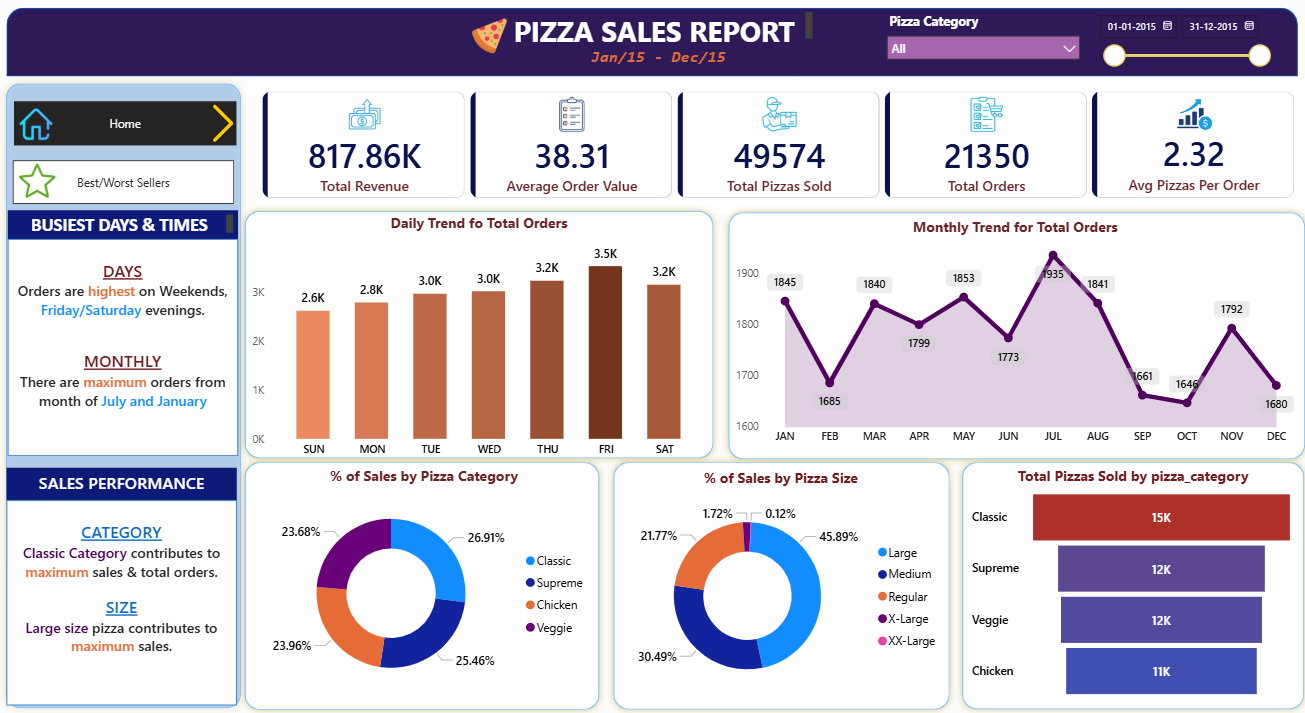

The dashboard page shown, as its layout file describes it:
{"tool":"powerbi","page":{"name":"Home","canvas":[1500,820],"ordinal":0},"visuals":[{"type":"shape","box":[0,88.6,284.3,730],"z":0},{"type":"cardVisual","fields":{"Data":["pizza_sales.Total Revenue","pizza_sales.Average Order Value","pizza_sales.Total Pizzas Sold","pizza_sales.Total Orders","pizza_sales.Avg Pizzas Per Order"]},"box":[284.4,88.9,1215.6,156.7],"z":1000},{"type":"shape","box":[8.6,10,1475.7,78.6],"z":2000},{"type":"textbox","box":[572.9,10,361.4,45.7],"z":3000},{"type":"textbox","box":[662.9,50,181.4,31.4],"z":4000},{"type":"image","box":[535.7,21.4,50,41.4],"z":5000},{"type":"shape","box":[272.9,234.3,551.4,298.6],"z":6000},{"type":"columnChart","title":"Daily Trend fo Total Orders","fields":{"Category":["pizza_sales.Order Day"],"Y":["pizza_sales.Total Orders"]},"box":[284.3,244.3,528.6,288.6],"z":7000},{"type":"shape","box":[825,235,675,298.3],"z":8000},{"type":"areaChart","title":"Monthly Trend for Total Orders","fields":{"Y":["pizza_sales.Total Orders"],"Category":["pizza_sales.Order Month"]},"box":[836.7,248.3,648.3,270],"z":9000},{"type":"shape","box":[273.3,521.1,421.1,298.9],"z":10000},{"type":"shape","box":[694.3,521.4,400,298.6],"z":11000},{"type":"shape","box":[1093.3,521.7,406.7,298.3],"z":12000},{"type":"donutChart","title":"% of Sales by Pizza Category","fields":{"Category":["pizza_sales.pizza_category"],"Y":["pizza_sales.Total Revenue"]},"box":[290,532.9,391.4,271.4],"z":13000},{"type":"donutChart","title":"% of Sales by Pizza Size","fields":{"Y":["pizza_sales.Total Revenue"],"Category":["pizza_sales.pizza_size"]},"box":[702.9,535.7,381.4,271.4],"z":14000},{"type":"funnel","fields":{"Category":["pizza_sales.pizza_category"],"Y":["pizza_sales.Total Pizzas Sold"]},"box":[1106.7,533.3,378.3,271.7],"z":15000},{"type":"textbox","box":[10,241.4,262.9,32.9],"z":16000},{"type":"textbox","box":[10,274.4,263.3,247.8],"z":17000},{"type":"textbox","box":[8.9,535.6,263.3,36.7],"z":18000},{"type":"textbox","box":[8.9,572.2,263.3,234.4],"z":19000},{"type":"slicer","fields":{"Values":["pizza_sales.pizza_category"]},"box":[1004.3,10,241.4,71.4],"z":20000},{"type":"slicer","fields":{"Values":["pizza_sales.order_date"]},"box":[1245.7,8.6,215.7,80],"z":21000},{"type":"pageNavigator","box":[17.1,117.1,254.3,50],"z":21001},{"type":"pageNavigator","box":[16.2,183.8,253.8,50],"z":21002},{"type":"image","box":[228.8,120,55,43.8],"z":21003},{"type":"image","box":[17.5,123.8,50,37.5],"z":21004},{"type":"image","box":[22.5,186.2,41.2,43.8],"z":21005}]}

Visuals, with their boxes in screenshot pixels (x1, y1, x2, y2), scaled from the page's 1500x820 canvas onto the 1305x713 screenshot:
shape: 0,77,247,712
cardVisual - pizza_sales.Total Revenue x pizza_sales.Average Order Value: 247,77,1304,214
shape: 7,9,1291,77
textbox: 498,9,813,48
textbox: 577,43,735,71
image: 466,19,510,55
shape: 237,204,717,463
"Daily Trend fo Total Orders" columnChart: 247,212,707,463
shape: 718,204,1304,464
"Monthly Trend for Total Orders" areaChart: 728,216,1292,451
shape: 238,453,604,712
shape: 604,453,952,712
shape: 951,454,1304,712
"% of Sales by Pizza Category" donutChart: 252,463,593,699
"% of Sales by Pizza Size" donutChart: 612,466,943,702
funnel - pizza_sales.pizza_category x pizza_sales.Total Pizzas Sold: 963,464,1292,700
textbox: 9,210,237,239
textbox: 9,239,238,454
textbox: 8,466,237,498
textbox: 8,498,237,701
slicer - pizza_sales.pizza_category: 874,9,1084,71
slicer - pizza_sales.order_date: 1084,7,1271,77
pageNavigator: 15,102,236,145
pageNavigator: 14,160,235,203
image: 199,104,247,142
image: 15,108,59,140
image: 20,162,55,200
